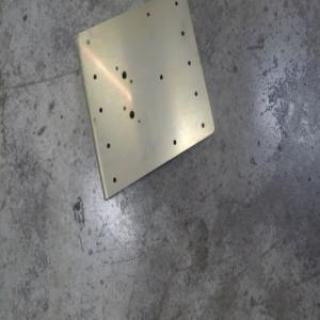MetalSheettrack_idkeyframe: (72, 0, 216, 205)
